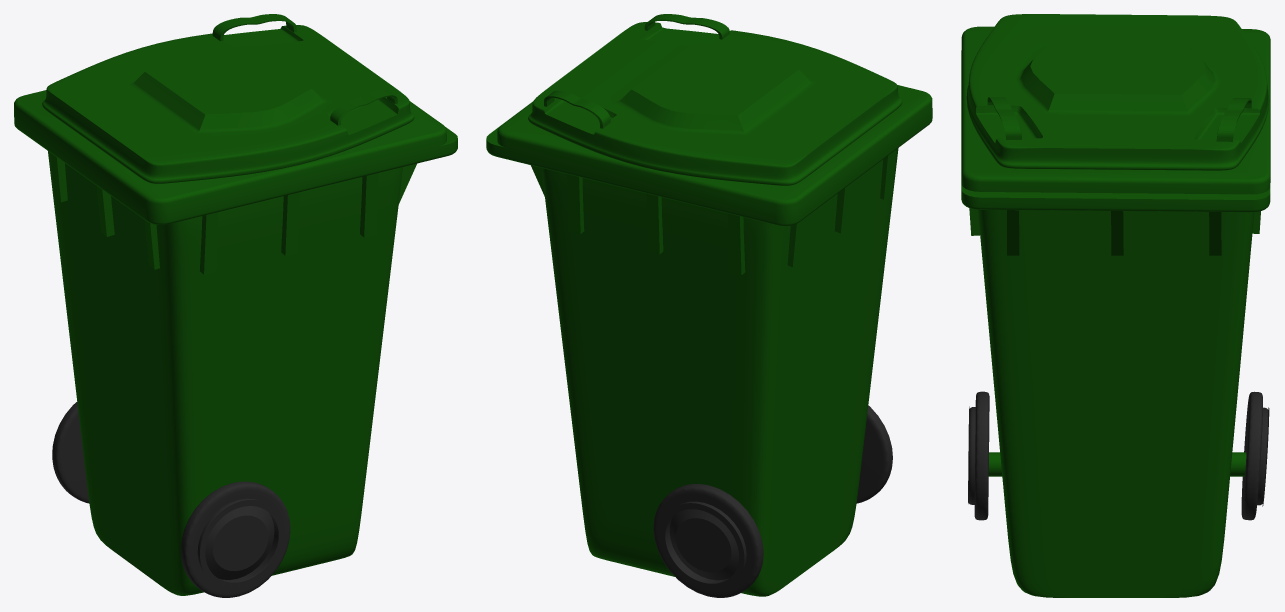
The model's file is trashbin.glb.
3 renders of one model, left to right at view 1: azimuth 30°, elevation 25°; view 2: azimuth 150°, elevation 25°; view 3: azimuth 270°, elevation 25°, orthographic. The views are drawn at different scales.
Visible parts, largest first — view 1: body, door, upper body, wheel.001, wheel; view 2: body, door, upper body, wheel, wheel.001; view 3: body, door, upper body, wheel, wheel.001.
Part boxes in pixels (x1=…): body: x1=48, y1=151, x2=416, y2=595; door: x1=42, y1=14, x2=414, y2=183; upper body: x1=14, y1=90, x2=457, y2=224; wheel.001: x1=180, y1=481, x2=290, y2=597; wheel: x1=52, y1=402, x2=89, y2=503; body: x1=531, y1=148, x2=898, y2=596; door: x1=528, y1=14, x2=902, y2=185; upper body: x1=486, y1=27, x2=932, y2=226; wheel: x1=653, y1=484, x2=763, y2=597; wheel.001: x1=856, y1=405, x2=892, y2=503; body: x1=969, y1=208, x2=1260, y2=597; door: x1=966, y1=14, x2=1269, y2=170; upper body: x1=961, y1=26, x2=1270, y2=212; wheel: x1=1241, y1=391, x2=1269, y2=520; wheel.001: x1=968, y1=391, x2=989, y2=520.
Bounding box in the file's own units: 10.67 × 15.33 × 8.79.
